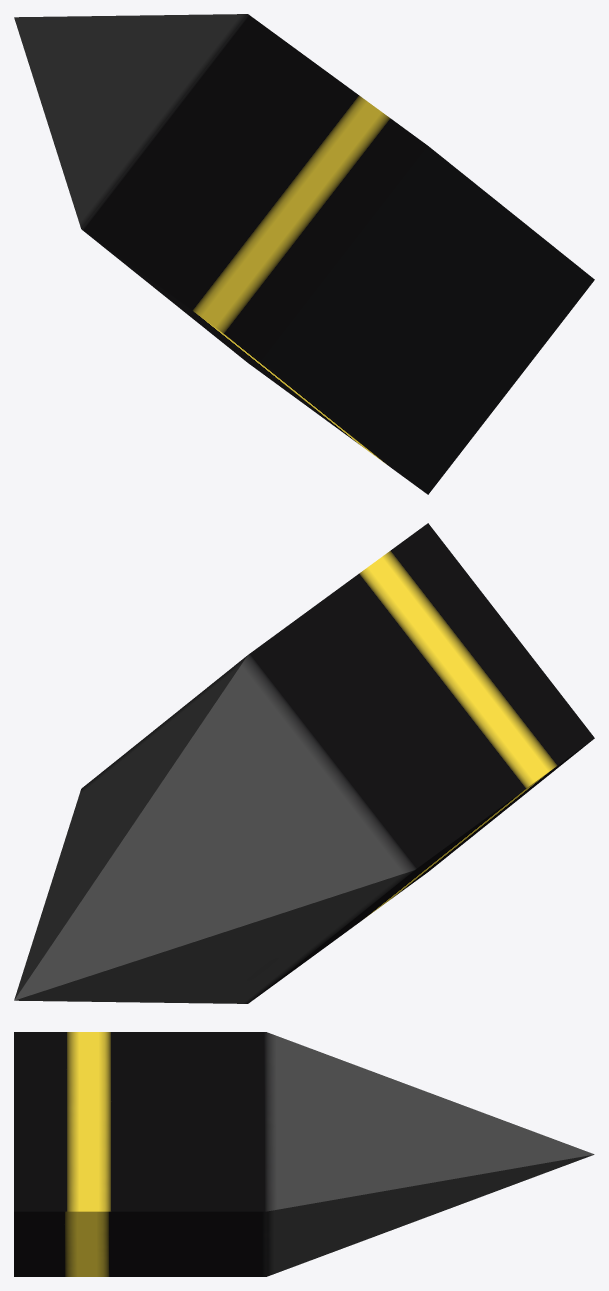
File: ProjectileMortar.fbx
The picture shows the model from 3 angles, top to bottom: view 1: azimuth 30°, elevation 25°; view 2: azimuth 150°, elevation 25°; view 3: azimuth 270°, elevation 25°; orthographic projection. The views are drawn at different scales.
Parts seen in each view (by area): view 1: pCone1; view 2: pCone1; view 3: pCone1.
Boxes of the visible parts, x1,y1,x2,y2 form: pCone1: [14, 14, 594, 494]; pCone1: [14, 523, 594, 1003]; pCone1: [14, 1032, 594, 1276].
Bounding box in the file's own units: 1.66 × 1.66 × 3.57.
